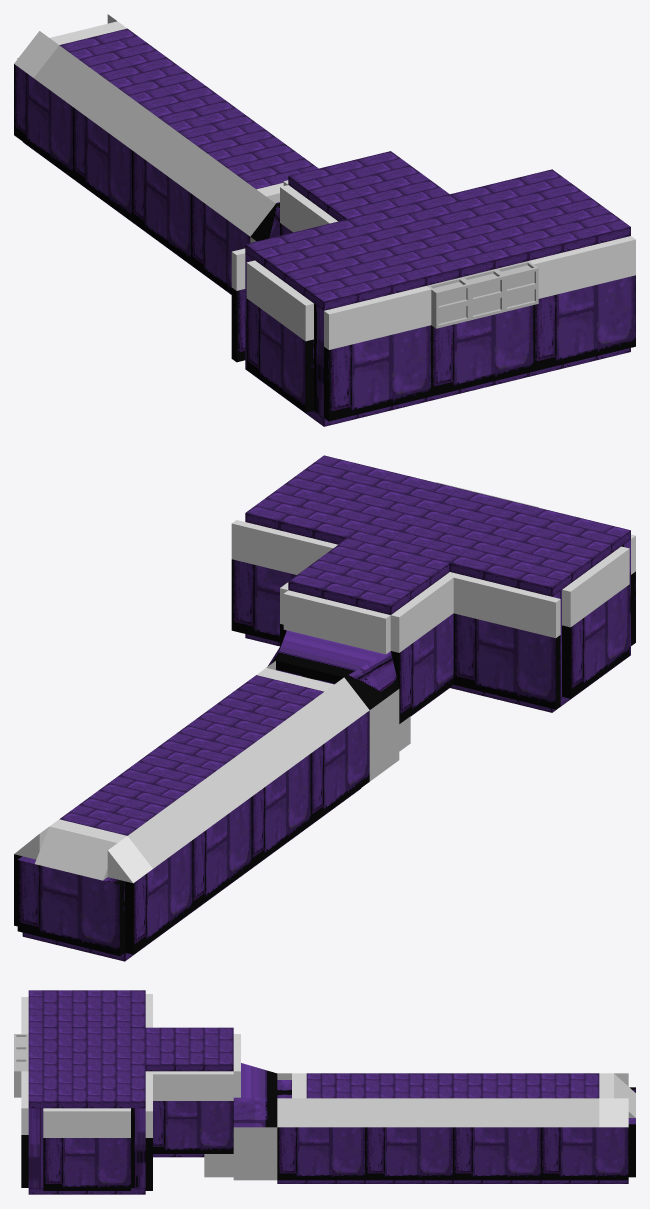
Rendered from pruebas.fbx.
3 renders of one model, top to bottom at view 1: azimuth 30°, elevation 25°; view 2: azimuth 150°, elevation 25°; view 3: azimuth 270°, elevation 25°, orthographic. The views are drawn at different scales.
Parts seen in each view (by area): view 1: ParedGrande.016, ParedGrande.018, ParedGrande.017, ParedGrande.020, Techo.031, ParedGrande.004, ParedGrande.006, ParedGrande.001, Techo.030, ParedGrande.008, Techo.033, Techo.026 (+86 smaller); view 2: ParedGrande.002, ParedGrande.015, ParedGrande.019, ParedGrande.001, ParedGrande.020, Techo.027, Techo.034, ParedGrande.008, ParedGrande.004, ParedGrande.006, ParedGrande.013, ParedGrande.014 (+32 smaller); view 3: ParedGrande.009, ParedGrande.003, ParedGrande.005, ParedGrande.007, ParedGrande.021, ParedGrande.012, Techo.032, ParedGrande.019, Techo.025, Plane.009, Suelo.082, Suelo.081 (+84 smaller).
Part boxes in pixels (x1,y1,x2,y2): ParedGrande.016: (324, 325, 431, 421); ParedGrande.018: (533, 275, 635, 371); ParedGrande.017: (431, 305, 533, 396); ParedGrande.020: (246, 298, 313, 412); Techo.031: (324, 286, 431, 349); ParedGrande.004: (73, 107, 132, 221); ParedGrande.006: (132, 150, 191, 264); ParedGrande.001: (14, 64, 72, 177); Techo.030: (529, 236, 635, 298); ParedGrande.008: (191, 194, 250, 293); Techo.033: (246, 260, 313, 341); Techo.026: (280, 185, 337, 232); ParedGrande.002: (17, 856, 124, 956); ParedGrande.015: (453, 613, 560, 709); ParedGrande.019: (267, 630, 399, 709); ParedGrande.001: (125, 840, 192, 954); ParedGrande.020: (562, 584, 629, 698); Techo.027: (453, 574, 560, 638); Techo.034: (283, 590, 390, 654); ParedGrande.008: (310, 710, 369, 824); ParedGrande.004: (192, 797, 251, 910); ParedGrande.006: (251, 754, 310, 867); ParedGrande.013: (391, 613, 453, 723); ParedGrande.014: (231, 559, 296, 642); ParedGrande.009: (277, 1127, 365, 1180); ParedGrande.003: (541, 1127, 628, 1180); ParedGrande.005: (453, 1127, 540, 1180); ParedGrande.007: (365, 1127, 452, 1180); ParedGrande.021: (43, 1138, 130, 1190); ParedGrande.012: (153, 1101, 233, 1153); Techo.032: (43, 1108, 130, 1137); ParedGrande.019: (233, 1063, 277, 1127); Techo.025: (145, 1071, 233, 1100); Plane.009: (233, 1127, 277, 1180); Suelo.082: (28, 1108, 43, 1187); Suelo.081: (131, 1108, 145, 1187).
Bounding box in the file's own units: 4750 × 2250 × 10625.
